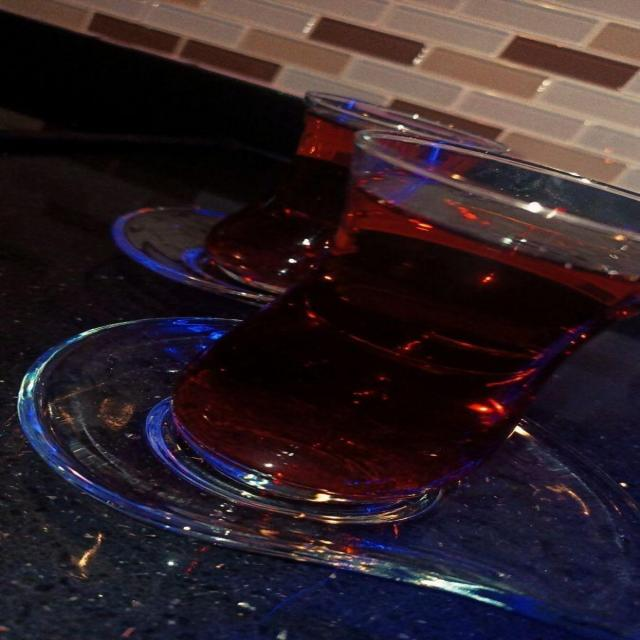glass-normal: (146, 127, 639, 524), (197, 88, 510, 282)
